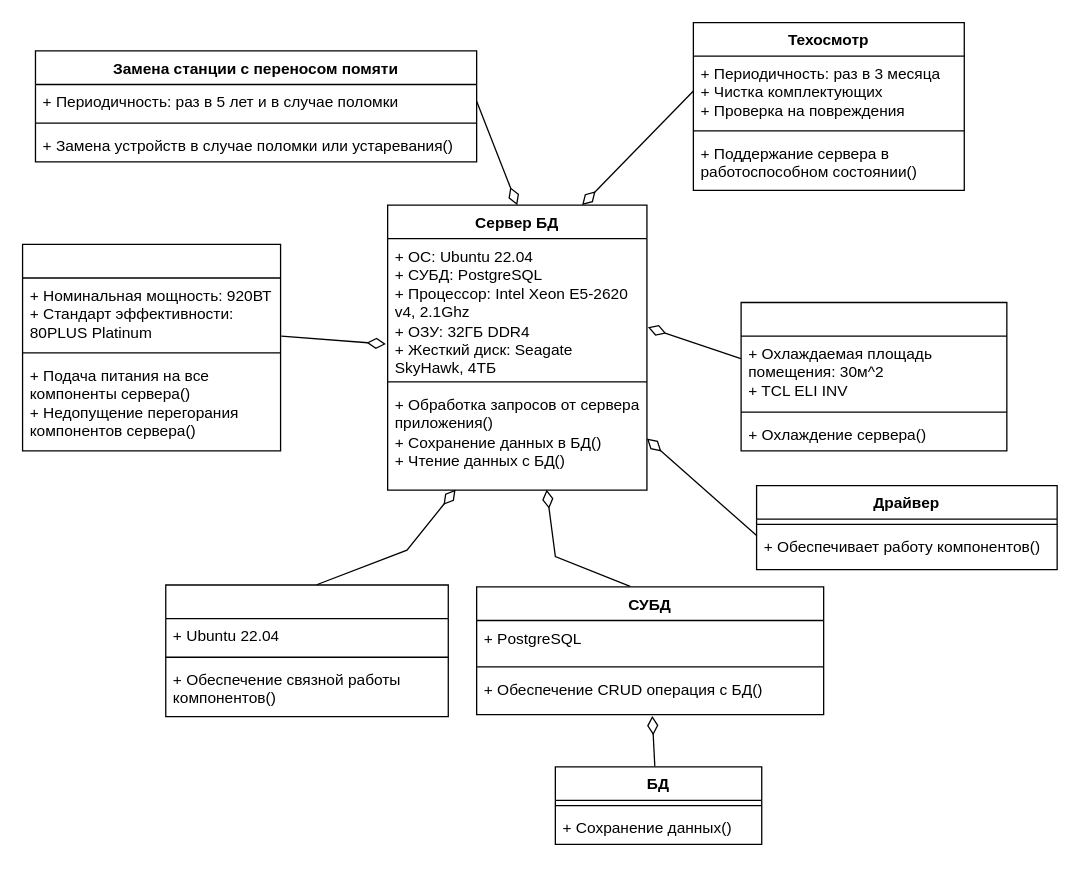
Image size: 1080x871. Some labels were removed from this diagram. Each missing label, with the box of its shape:
БУП сервера БД: (21, 243, 281, 451)
Кондиционер сервера БД: (740, 301, 1007, 451)
ОС сервера БД: (164, 584, 448, 717)
